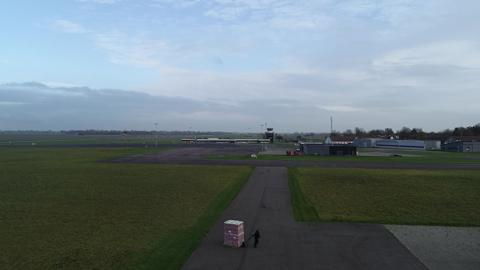RockwoolPallet: (223, 219, 245, 246)
